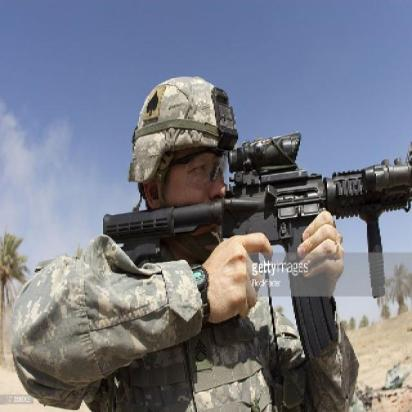Gun: (95, 125, 411, 317)
